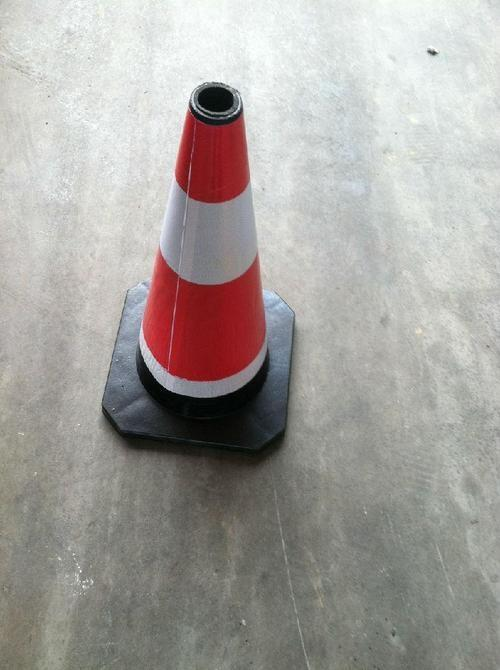cone_barrel: (118, 87, 286, 422)
